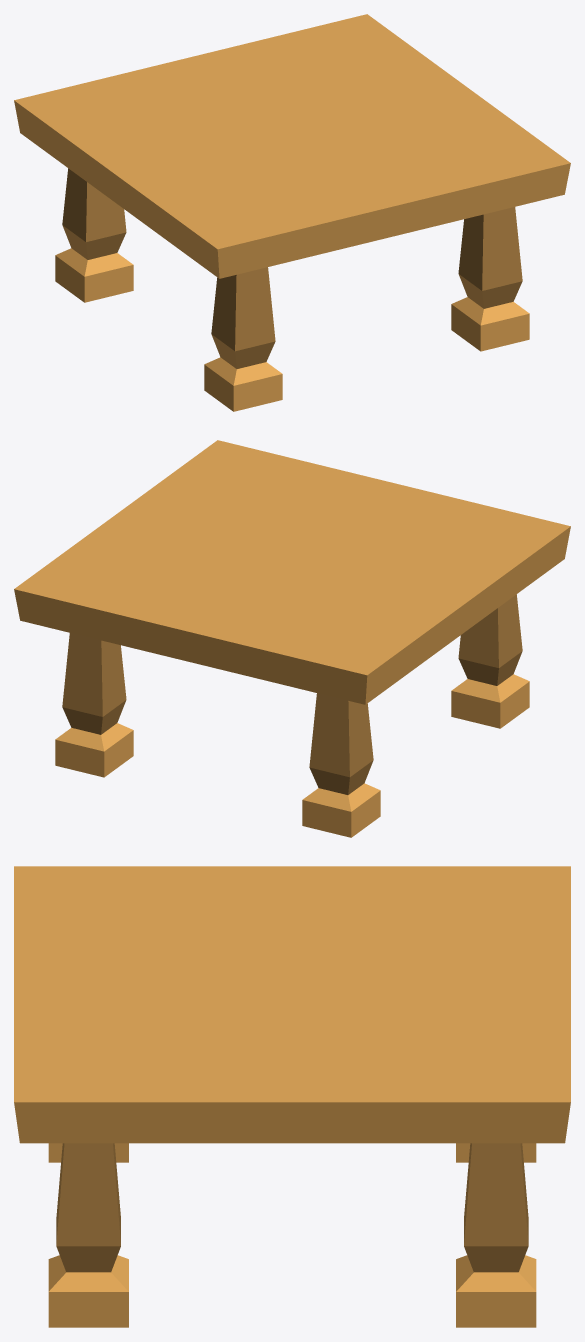
Rendered from table.glb.
The picture shows the model from 3 angles, top to bottom: view 1: azimuth 30°, elevation 25°; view 2: azimuth 150°, elevation 25°; view 3: azimuth 270°, elevation 25°; orthographic projection. The views are drawn at different scales.
Visible parts, largest first — view 1: Table; view 2: Table; view 3: Table.
Part boxes in pixels (x1,y1,x2,y2): Table: [14, 14, 570, 411]; Table: [14, 440, 570, 837]; Table: [14, 866, 570, 1327].
Size of the model in its own units: 1.82 by 0.8779 by 1.81.
